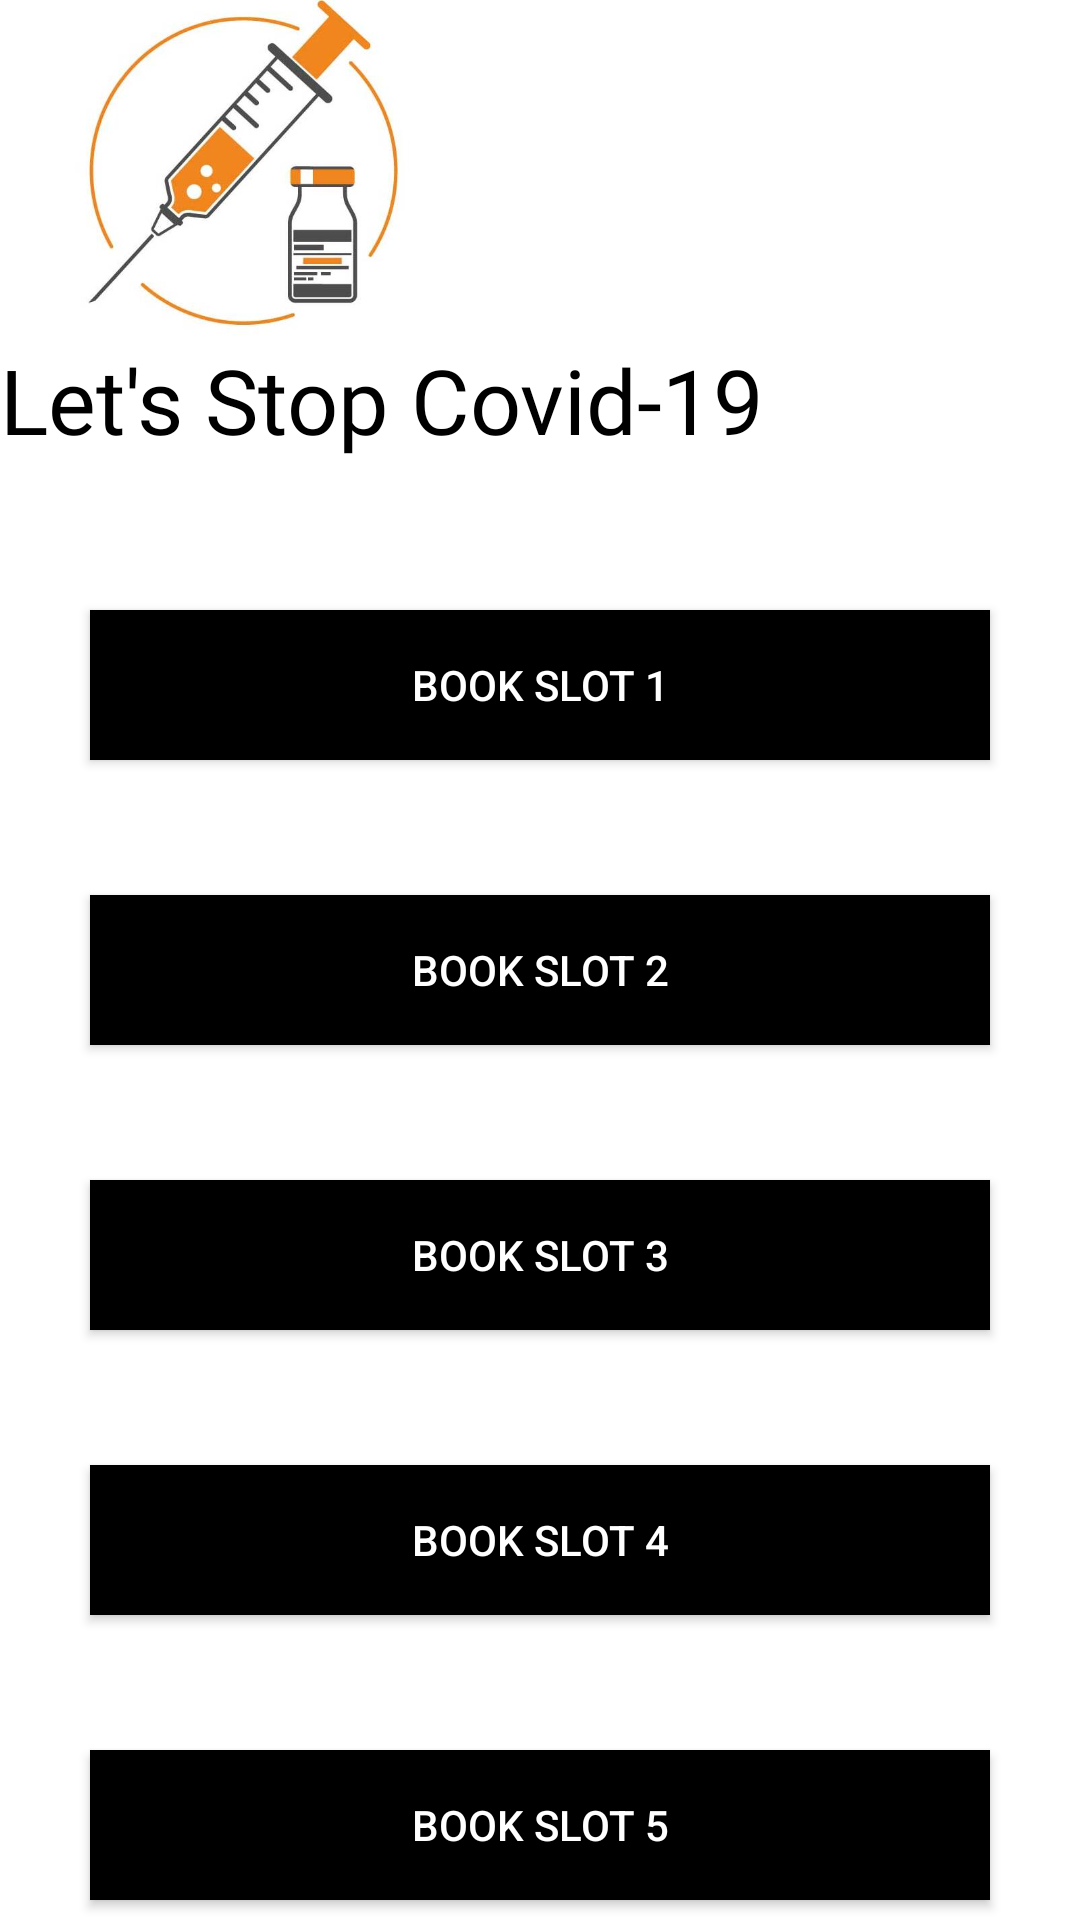

Icons on this 1080 x 1920 Android screen, each with its box as bbox=(x1, y1, x2, y2):
vacbacrop: bbox=(89, 0, 399, 326)
